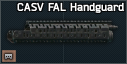SA-58%5FAL Vltor CASV-FAL handguard: (0, 0, 127, 64)
